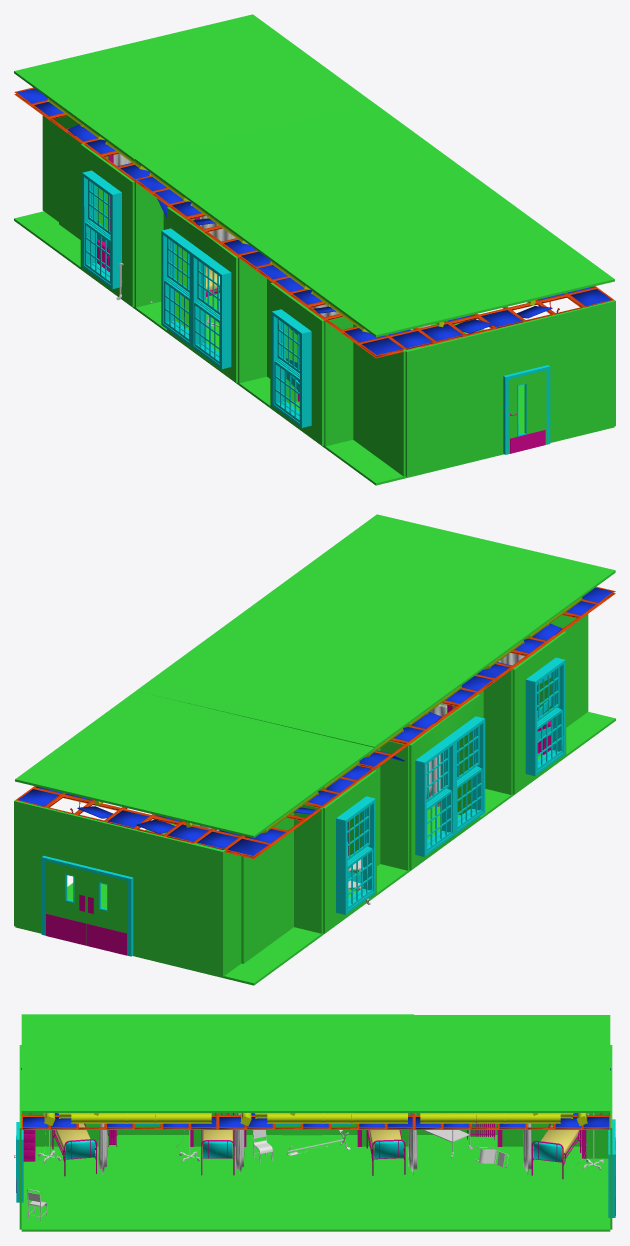
Rendered from TO_Jam_Room_Large_Var1.fbx.
The picture shows the model from 3 angles, top to bottom: view 1: azimuth 30°, elevation 25°; view 2: azimuth 150°, elevation 25°; view 3: azimuth 270°, elevation 25°; orthographic projection. The views are drawn at different scales.
Parts seen in each view (by area): view 1: ICU_RoofSet_1_7/8U.001, ICU_RoofSet_1_7/8U.002, ICU_RoofSet_1_7/8U.003, ICU_WallSet_3_3U_.004, ICU_WindowSet_Medium_4U_.001, ICU_WallSet_2_2U_.003, ICU_WindowSet_Small_3U_.001, ICU_WindowSet_Small_3U_.002, ICU_WallSet_3_3U_.001, ICU_DoorwaySet_Single_2U_.001, ICU_WallSet_1_1U_.001, ICU_WallSet_1_1U_.003 (+8 smaller); view 2: ICU_RoofSet_1_7/8U.003, ICU_RoofSet_1_7/8U.002, ICU_RoofSet_1_7/8U.001, ICU_WallSet_3_3U_.003, ICU_WindowSet_Medium_4U_.001, ICU_WindowSet_Small_3U_.001, ICU_WindowSet_Small_3U_.002, ICU_DoorwaySet_Double_3U_.001, ICU_WallSet_3_3U_.002, ICU_WallSet_1_1U_.007, ICU_WallSet_1_1U_.004, ICU_WallSet_1_1U_.006 (+9 smaller); view 3: ICU_RoofSet_1_7/8U.001, ICU_RoofSet_1_7/8U.002, ICU_RoofSet_1_7/8U.003, ICU_FloorSet_1_7/8U_.002, ICU_FloorSet_1_7/8U_.001, ICU_FloorSet_1_7/8U_.003, ICU_FurnSet_HBed_Norm_.004, ICU_FurnSet_HBed_Norm_.002, ICU_FurnSet_HBed_Norm_.003, ICU_FurnSet_HBed_Norm_.001, ICU_WindowSet_Medium_4U_.001, ICU_DoorwaySet_Double_3U_.001 (+16 smaller).
Boxes of the visible parts, x1,y1,x2,y2 form: ICU_RoofSet_1_7/8U.001: (255,191,614,358); ICU_RoofSet_1_7/8U.002: (134,102,493,269); ICU_RoofSet_1_7/8U.003: (14,14,372,181); ICU_WallSet_3_3U_.004: (405,329,496,476); ICU_WindowSet_Medium_4U_.001: (161,207,237,382); ICU_WallSet_2_2U_.003: (555,300,615,440); ICU_WindowSet_Small_3U_.001: (270,283,324,445); ICU_WindowSet_Small_3U_.002: (80,144,134,307); ICU_WallSet_3_3U_.001: (353,324,405,476); ICU_DoorwaySet_Single_2U_.001: (496,315,556,454); ICU_WallSet_1_1U_.001: (324,317,353,446); ICU_WallSet_1_1U_.003: (238,257,266,383); ICU_RoofSet_1_7/8U.003: (15,691,374,858); ICU_RoofSet_1_7/8U.002: (136,602,495,769); ICU_RoofSet_1_7/8U.001: (257,514,615,681); ICU_WallSet_3_3U_.003: (133,829,224,976); ICU_WindowSet_Medium_4U_.001: (409,694,485,870); ICU_WindowSet_Small_3U_.001: (512,631,566,794); ICU_WindowSet_Small_3U_.002: (323,770,376,933); ICU_DoorwaySet_Double_3U_.001: (41,807,133,956); ICU_WallSet_3_3U_.002: (241,812,293,963); ICU_WallSet_1_1U_.007: (14,800,44,932); ICU_WallSet_1_1U_.004: (380,741,409,870); ICU_WallSet_1_1U_.006: (294,804,322,933); ICU_RoofSet_1_7/8U.001: (21,1014,240,1129); ICU_RoofSet_1_7/8U.002: (218,1014,413,1129); ICU_RoofSet_1_7/8U.003: (414,1015,610,1129); ICU_FloorSet_1_7/8U_.002: (218,1135,413,1231); ICU_FloorSet_1_7/8U_.001: (21,1135,217,1231); ICU_FloorSet_1_7/8U_.003: (414,1135,610,1231); ICU_FurnSet_HBed_Norm_.004: (531,1123,581,1179); ICU_FurnSet_HBed_Norm_.002: (52,1123,96,1176); ICU_FurnSet_HBed_Norm_.003: (366,1130,405,1175); ICU_FurnSet_HBed_Norm_.001: (201,1113,234,1175); ICU_WindowSet_Medium_4U_.001: (246,1118,357,1135); ICU_DoorwaySet_Double_3U_.001: (608,1080,615,1217).
Size of the model in its own units: 840 by 494 by 2147.
